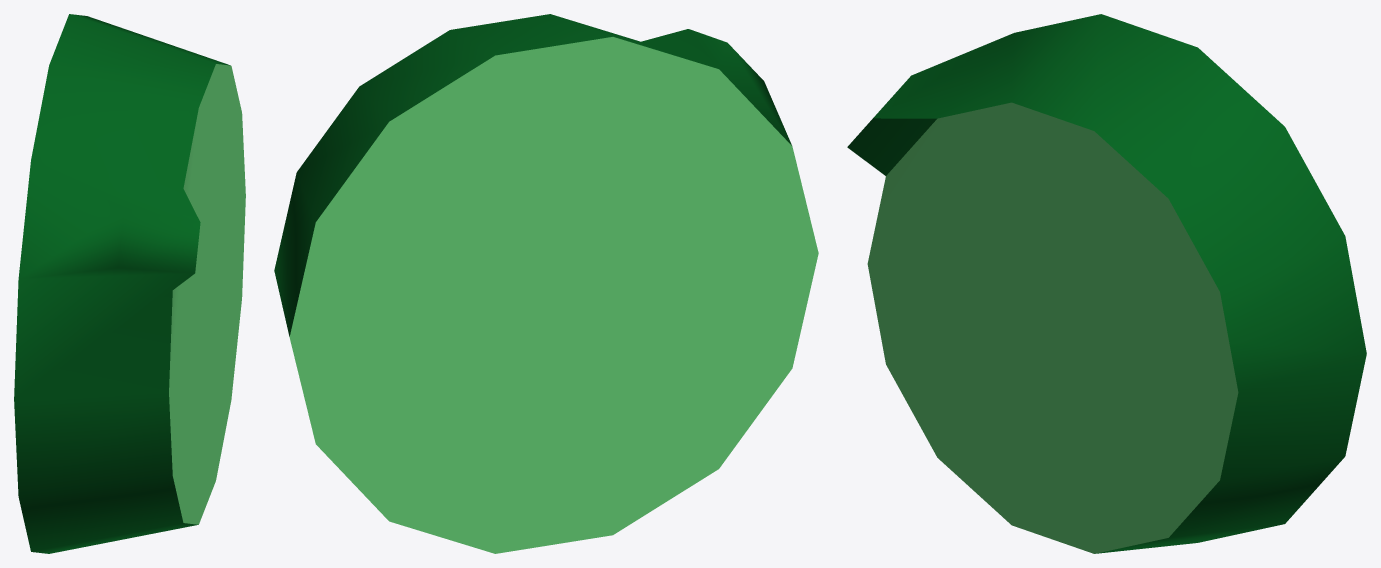
The model's file is mesh_PickleSlice_Stage13.fbx.
3 views of the same model, side by side, from view 1: azimuth 30°, elevation 25°; view 2: azimuth 150°, elevation 25°; view 3: azimuth 270°, elevation 25° (orthographic). The views are drawn at different scales.
Visible parts, largest first — view 1: mesh_PickleSlice_Stage13; view 2: mesh_PickleSlice_Stage13; view 3: mesh_PickleSlice_Stage13.
Boxes of the visible parts, bbox=[...] form: mesh_PickleSlice_Stage13: bbox=[14, 14, 245, 553]; mesh_PickleSlice_Stage13: bbox=[274, 14, 818, 553]; mesh_PickleSlice_Stage13: bbox=[847, 14, 1366, 553].
Size of the model in its own units: 0.0266 by 0.0325 by 0.0309.
